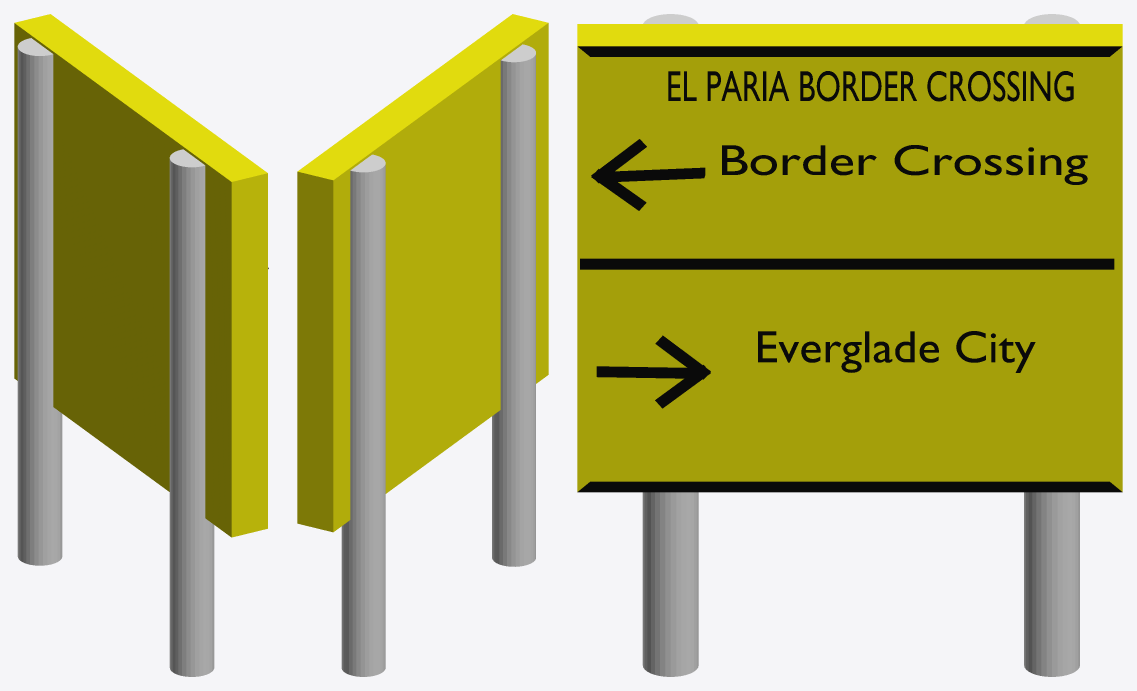
File: EPBC_sign_3.fbx
3 renders of one model, left to right at view 1: azimuth 30°, elevation 25°; view 2: azimuth 150°, elevation 25°; view 3: azimuth 270°, elevation 25°, orthographic. The views are drawn at different scales.
Visible parts, largest first — view 1: Cube.001, Cylinder, Cylinder.001; view 2: Cube.001, Cylinder.001, Cylinder; view 3: Cube.001, Cylinder, Cylinder.001, Plane.012, Text.004, Text.001, Text.003, Plane.004, Plane.011.
Boxes of the visible parts, box(x1,y1,x2,y2) form: Cube.001: box(14, 14, 267, 537); Cylinder: box(169, 149, 214, 676); Cylinder.001: box(17, 38, 62, 565); Cube.001: box(297, 14, 548, 532); Cylinder.001: box(341, 154, 385, 676); Cylinder: box(492, 44, 535, 566); Cube.001: box(577, 24, 1122, 492); Cylinder: box(642, 14, 698, 676); Cylinder.001: box(1024, 14, 1079, 676); Plane.012: box(580, 258, 1114, 269); Text.004: box(668, 71, 1073, 101); Text.001: box(722, 145, 1087, 184); Text.003: box(758, 331, 1035, 372); Plane.004: box(608, 167, 705, 182); Plane.011: box(596, 366, 693, 378).
Bounding box in the file's own units: 6.66 × 50.59 × 38.93.
